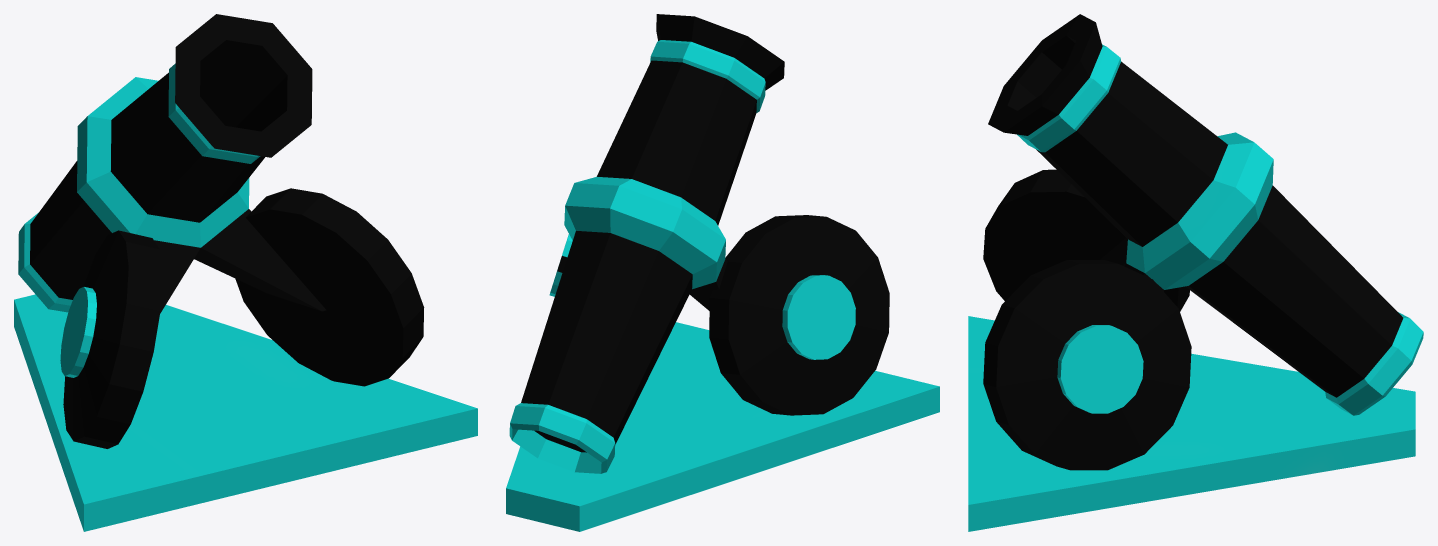
Rendered from Mortar_Tower_Ice.fbx.
3 views of the same model, side by side, from view 1: azimuth 30°, elevation 25°; view 2: azimuth 150°, elevation 25°; view 3: azimuth 270°, elevation 25° (orthographic). The views are drawn at different scales.
Parts seen in each view (by area): view 1: Circle; view 2: Circle; view 3: Circle.
Part boxes in pixels (<box>): Circle: <box>14,14,477,531</box>; Circle: <box>506,14,939,531</box>; Circle: <box>968,14,1423,531</box>.
Size of the model in its own units: 593 by 608 by 604.
Materials: 1 (1 with a texture image).
